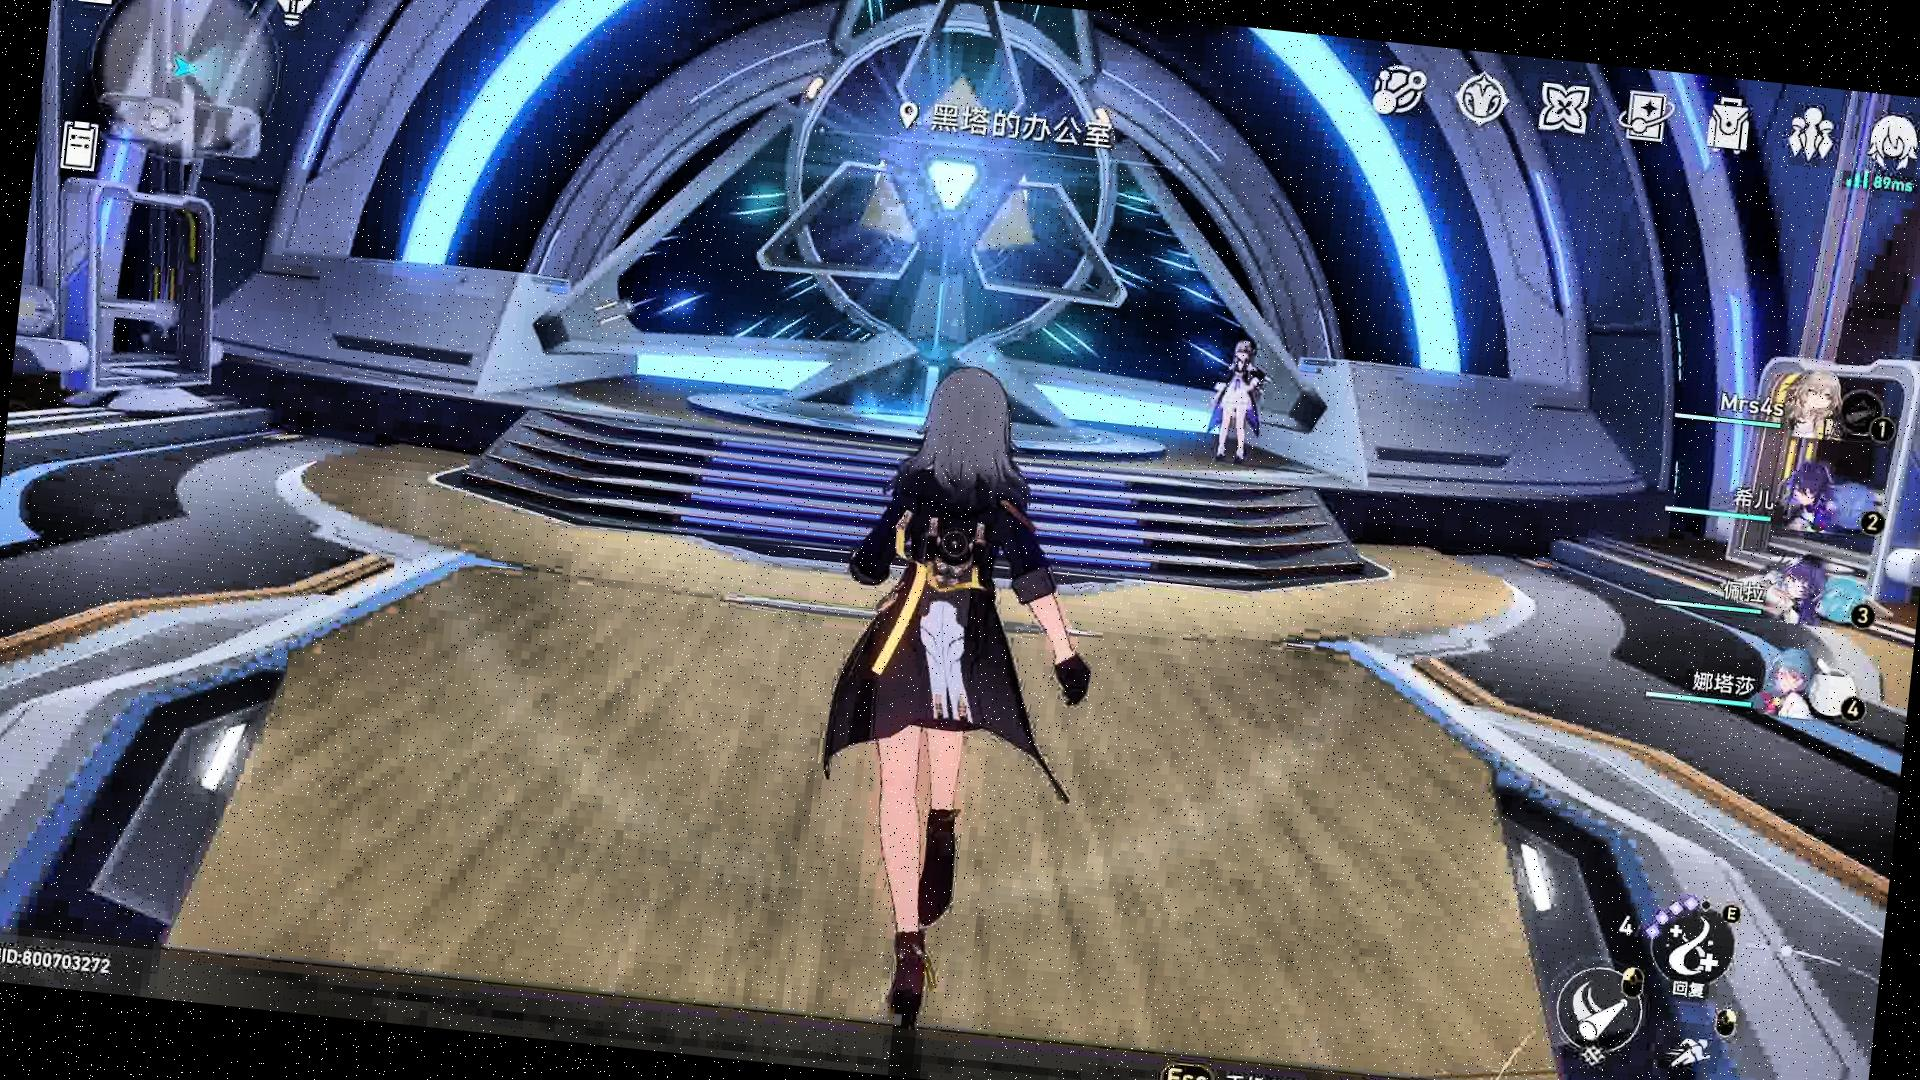Self: (796, 357, 1126, 1044)
TeamMate: (1200, 335, 1278, 471)
